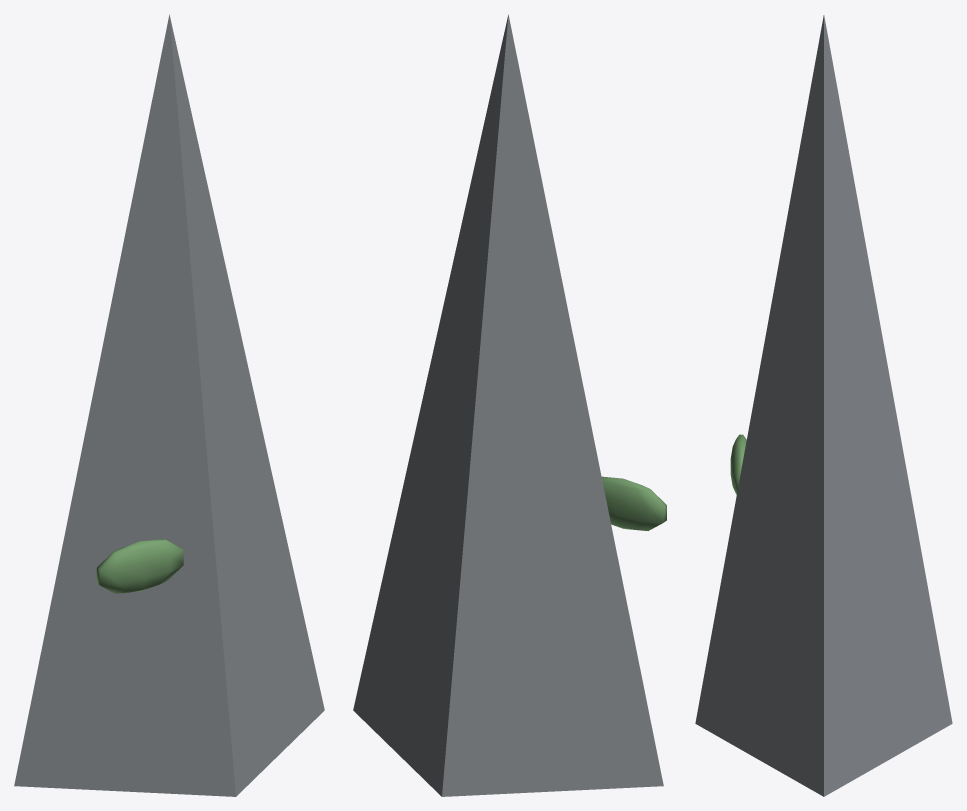
File: forest_stone_spire.glb
The picture shows the model from 3 angles, left to right: view 1: azimuth 30°, elevation 25°; view 2: azimuth 150°, elevation 25°; view 3: azimuth 270°, elevation 25°; orthographic projection. The views are drawn at different scales.
Parts seen in each view (by area): view 1: forest_stone_spire_root; view 2: forest_stone_spire_root; view 3: forest_stone_spire_root.
Boxes of the visible parts, left/top/right/bottom form: forest_stone_spire_root: left=14, top=14, right=324, bottom=796; forest_stone_spire_root: left=353, top=14, right=666, bottom=796; forest_stone_spire_root: left=695, top=15, right=952, bottom=796.
Bounding box in the file's own units: 3.1 × 7 × 2.3.
